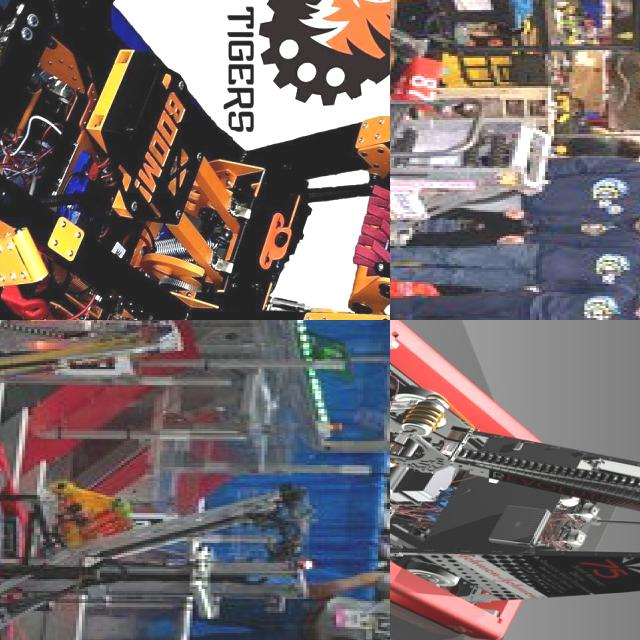FRC-Robots: (0, 0, 390, 320), (390, 320, 640, 632), (0, 448, 317, 640), (390, 63, 573, 289), (0, 320, 177, 516)
